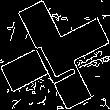L_NW: (30, 25, 80, 85)
